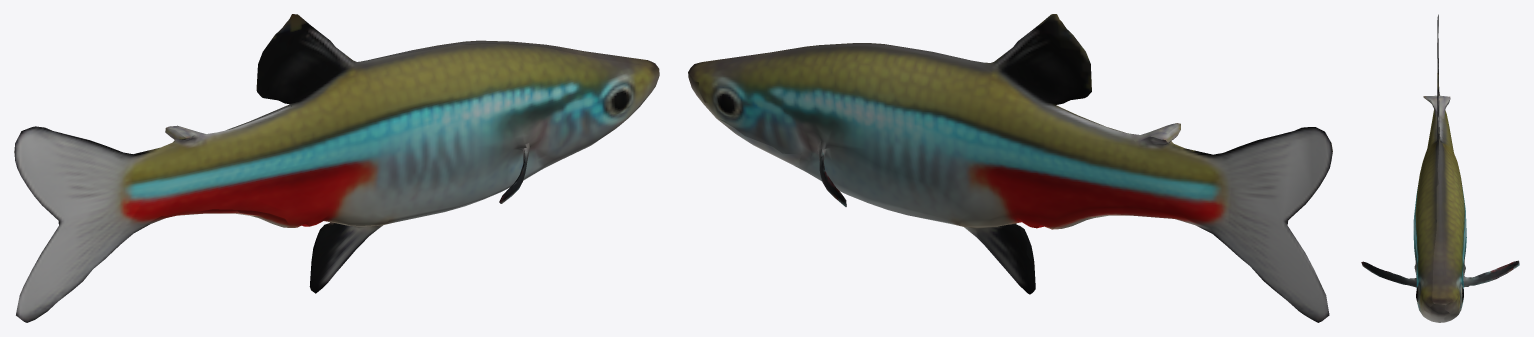
File: neon-tetra.glb
3 views of the same model, side by side, from view 1: azimuth 30°, elevation 25°; view 2: azimuth 150°, elevation 25°; view 3: azimuth 270°, elevation 25° (orthographic). The views are drawn at different scales.
Parts seen in each view (by area): view 1: geometry_0; view 2: geometry_0; view 3: geometry_0.
Part boxes in pixels (box(x1,y1,x2,y2)): geometry_0: box(14, 14, 659, 322); geometry_0: box(688, 14, 1332, 322); geometry_0: box(1361, 14, 1519, 322).
Bounding box in the file's own units: 1 × 0.4265 × 0.2944.
Materials: 1 (1 with a texture image).
